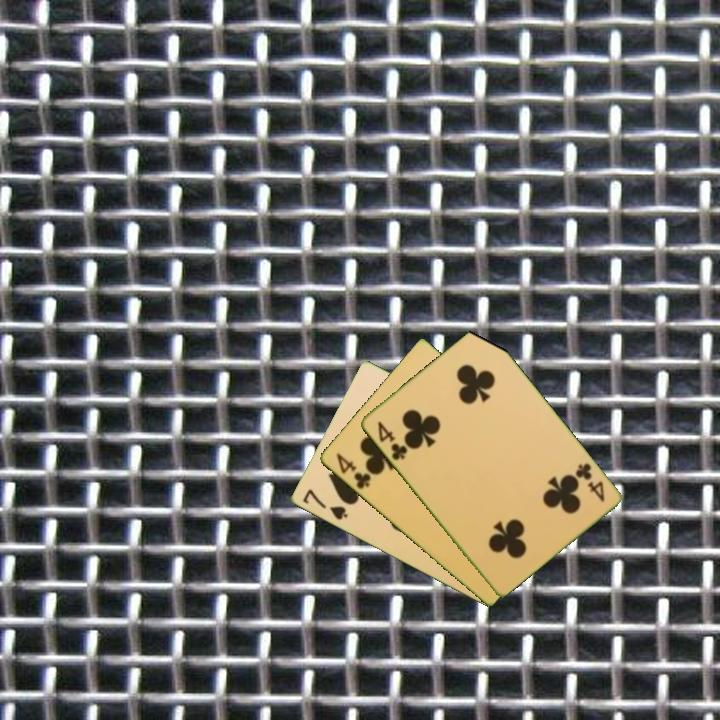4c: (332, 449, 373, 492), (374, 417, 410, 463), (571, 459, 607, 505)
7s: (299, 486, 350, 523)
